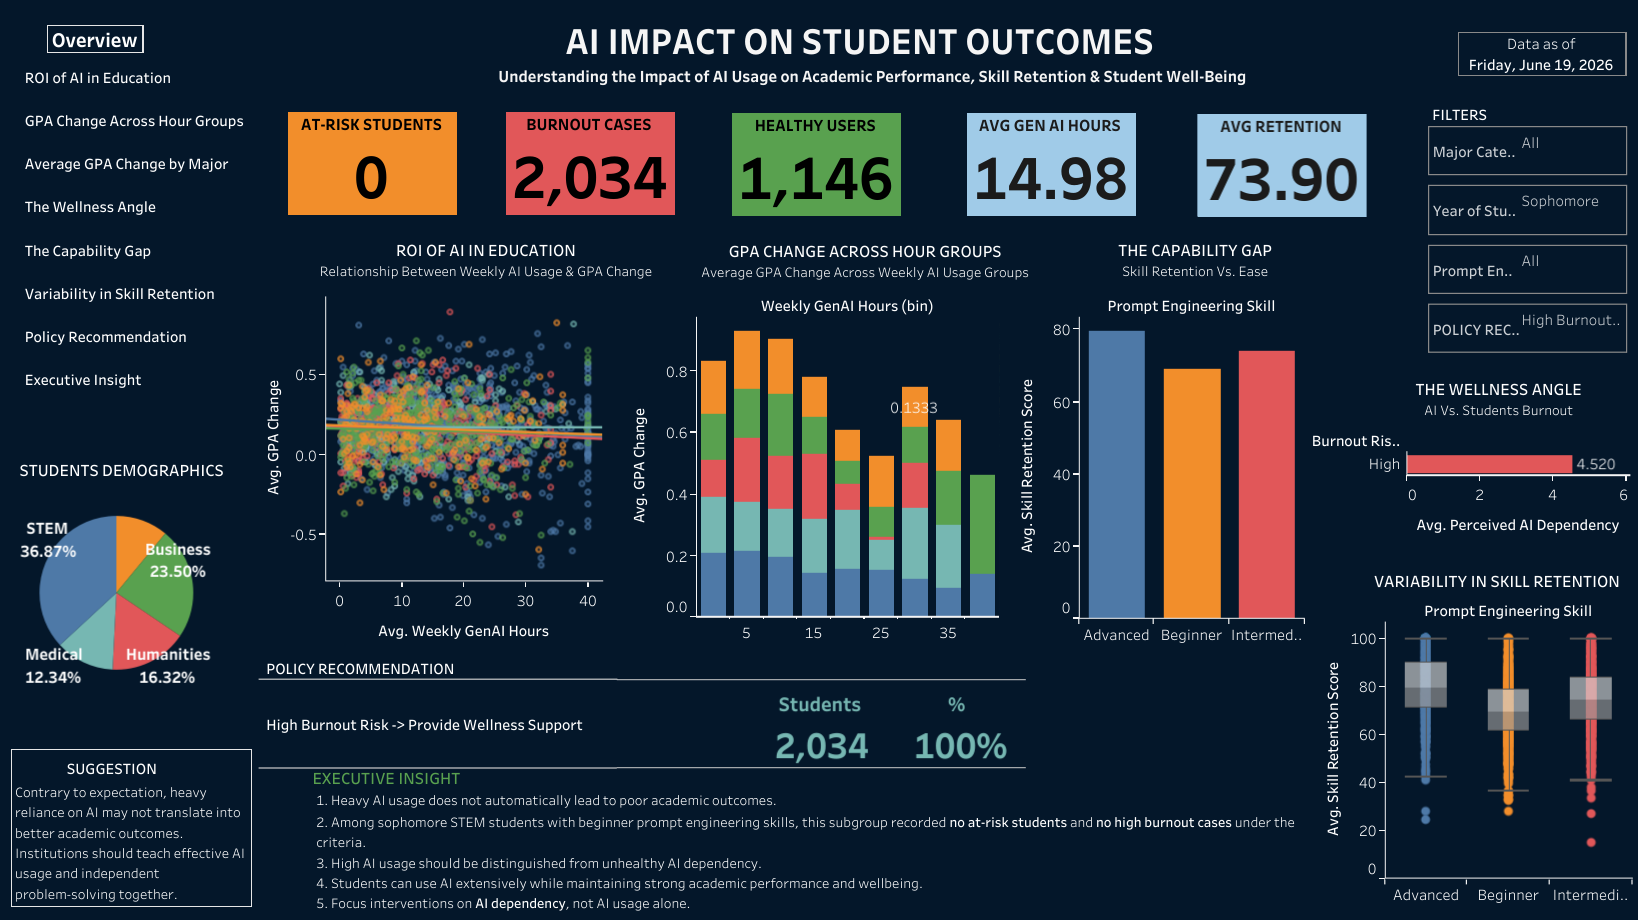

The page's visual inventory and layout, read from the dashboard file:
{"tool":"tableau","page":{"name":"Dashboard 1","canvas":[1366,768],"ordinal":0},"visuals":[{"type":"worksheet","title":"filters","mark":"Automatic","box":[0,0,1366,768]},{"type":"text","box":[354,3,859,78]},{"type":"worksheet","title":"overview","mark":"Automatic","box":[39,21,88,30]},{"type":"text","box":[18,53,191,274]},{"type":"text","box":[50,66.3,99.9,39.8]},{"type":"text","box":[1191,80,160,30]},{"type":"worksheet","title":"At-Risk Students","mark":"Automatic","box":[240,93,156,89]},{"type":"worksheet","title":"Burnout Cases","mark":"Automatic","box":[422,93,185,88]},{"type":"worksheet","title":"Healthy Users","mark":"Automatic","box":[610,94,180,87]},{"type":"worksheet","title":"KPI 3","mark":"Automatic","box":[806,94,145,86]},{"type":"worksheet","title":"KPI 2","mark":"Automatic","box":[998,95,151,93]},{"type":"filter","title":"filters","param":"[federated.0etjq1f19dy3n41emdxqm0qgkwh7].[none:Major_Category:nk]","box":[1186.1,100.8,173.9,49.4]},{"type":"filter","title":"filters","param":"[federated.0etjq1f19dy3n41emdxqm0qgkwh7].[none:Year_of_Study:nk]","box":[1186.1,150.2,173.9,49.4]},{"type":"text","box":[876,188,240,55]},{"type":"text","box":[263,189,284,54]},{"type":"text","box":[580,189,282,55]},{"type":"filter","title":"filters","param":"[federated.0etjq1f19dy3n41emdxqm0qgkwh7].[none:Prompt_Engineering_Skill:nk]","box":[1186.1,199.6,173.9,49.4]},{"type":"worksheet","title":"GPA Change Across Hour Groups","mark":"Automatic","rows":["Calculation_0013962500857917"],"cols":["Weekly GenAI Hours (bin)"],"box":[516,244,316,292]},{"type":"worksheet","title":"The Capability Gap: Skill Retention vs. Ease","mark":"Automatic","rows":["Skill_Retention_Score"],"cols":["Prompt_Engineering_Skill"],"box":[839,244,249,293]},{"type":"worksheet","title":"The ROI of A.I in Education","mark":"Automatic","rows":["Calculation_0013962500857917"],"cols":["Weekly_GenAI_Hours"],"box":[211,247,291,294]},{"type":"filter","title":"filters","param":"[federated.0etjq1f19dy3n41emdxqm0qgkwh7].[none:Calculation_0014100721811461:nk]","box":[1186.1,249,173.9,49.4]},{"type":"text","box":[1172,313,154,37]},{"type":"worksheet","title":"The Wellness Angle: AI vs. Student Burnout","mark":"Bar","rows":["Burnout_Risk_Level"],"cols":["Perceived_AI_Dependency"],"box":[1092,356,266,120]},{"type":"text","box":[11,376,181,30]},{"type":"worksheet","title":"Major Category Distribution","mark":"Pie","box":[17,414,182,223]},{"type":"text","box":[1142,468,211,30]},{"type":"worksheet","title":"Variability in Skill Retention Across Prompt Engineering Levels","mark":"Circle","rows":["Skill_Retention_Score"],"cols":["Prompt_Engineering_Skill"],"box":[1094,498,266,256]},{"type":"worksheet","title":"Call-to-Action (CTA)","mark":"Automatic","rows":["Calculation_0014100721811461"],"box":[216,546,745,109]},{"type":"text","box":[53,624,79,31]},{"type":"text","box":[250,632,145,30]},{"type":"text","box":[261,637,839,127]},{"type":"text","box":[10,643,202,118]}]}

Visuals, with their boxes in screenshot pixels (x1, y1, x2, y2), scaled from the page's 1366x768 canvas onto the 1638x920 screenshot:
"filters" worksheet: bbox=(0, 0, 1637, 919)
text: bbox=(424, 4, 1455, 97)
"overview" worksheet: bbox=(47, 25, 152, 61)
text: bbox=(22, 63, 251, 392)
text: bbox=(60, 79, 180, 127)
text: bbox=(1428, 96, 1620, 132)
"At-Risk Students" worksheet: bbox=(288, 111, 475, 218)
"Burnout Cases" worksheet: bbox=(506, 111, 728, 217)
"Healthy Users" worksheet: bbox=(731, 113, 947, 217)
"KPI 3" worksheet: bbox=(966, 113, 1140, 216)
"KPI 2" worksheet: bbox=(1197, 114, 1378, 225)
"filters" filter: bbox=(1422, 121, 1631, 180)
"filters" filter: bbox=(1422, 180, 1631, 239)
text: bbox=(1050, 225, 1338, 291)
text: bbox=(315, 226, 656, 291)
text: bbox=(695, 226, 1034, 292)
"filters" filter: bbox=(1422, 239, 1631, 298)
"GPA Change Across Hour Groups" worksheet: bbox=(619, 292, 998, 642)
"The Capability Gap: Skill Retention vs. Ease" worksheet: bbox=(1006, 292, 1305, 643)
"The ROI of A.I in Education" worksheet: bbox=(253, 296, 602, 648)
"filters" filter: bbox=(1422, 298, 1631, 357)
text: bbox=(1405, 375, 1590, 419)
"The Wellness Angle: AI vs. Student Burnout" worksheet (Bar marks): bbox=(1309, 426, 1628, 570)
text: bbox=(13, 450, 230, 486)
"Major Category Distribution" worksheet (Pie marks): bbox=(20, 496, 239, 763)
text: bbox=(1369, 561, 1622, 597)
"Variability in Skill Retention Across Prompt Engineering Levels" worksheet (Circle marks): bbox=(1312, 597, 1631, 903)
"Call-to-Action (CTA)" worksheet: bbox=(259, 654, 1152, 785)
text: bbox=(64, 748, 158, 785)
text: bbox=(300, 757, 474, 793)
text: bbox=(313, 763, 1319, 915)
text: bbox=(12, 770, 254, 912)
